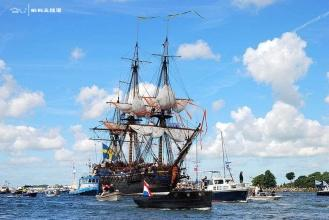fanchuan: (95, 9, 207, 189)
otherboat: (122, 186, 218, 210), (206, 176, 251, 202)
